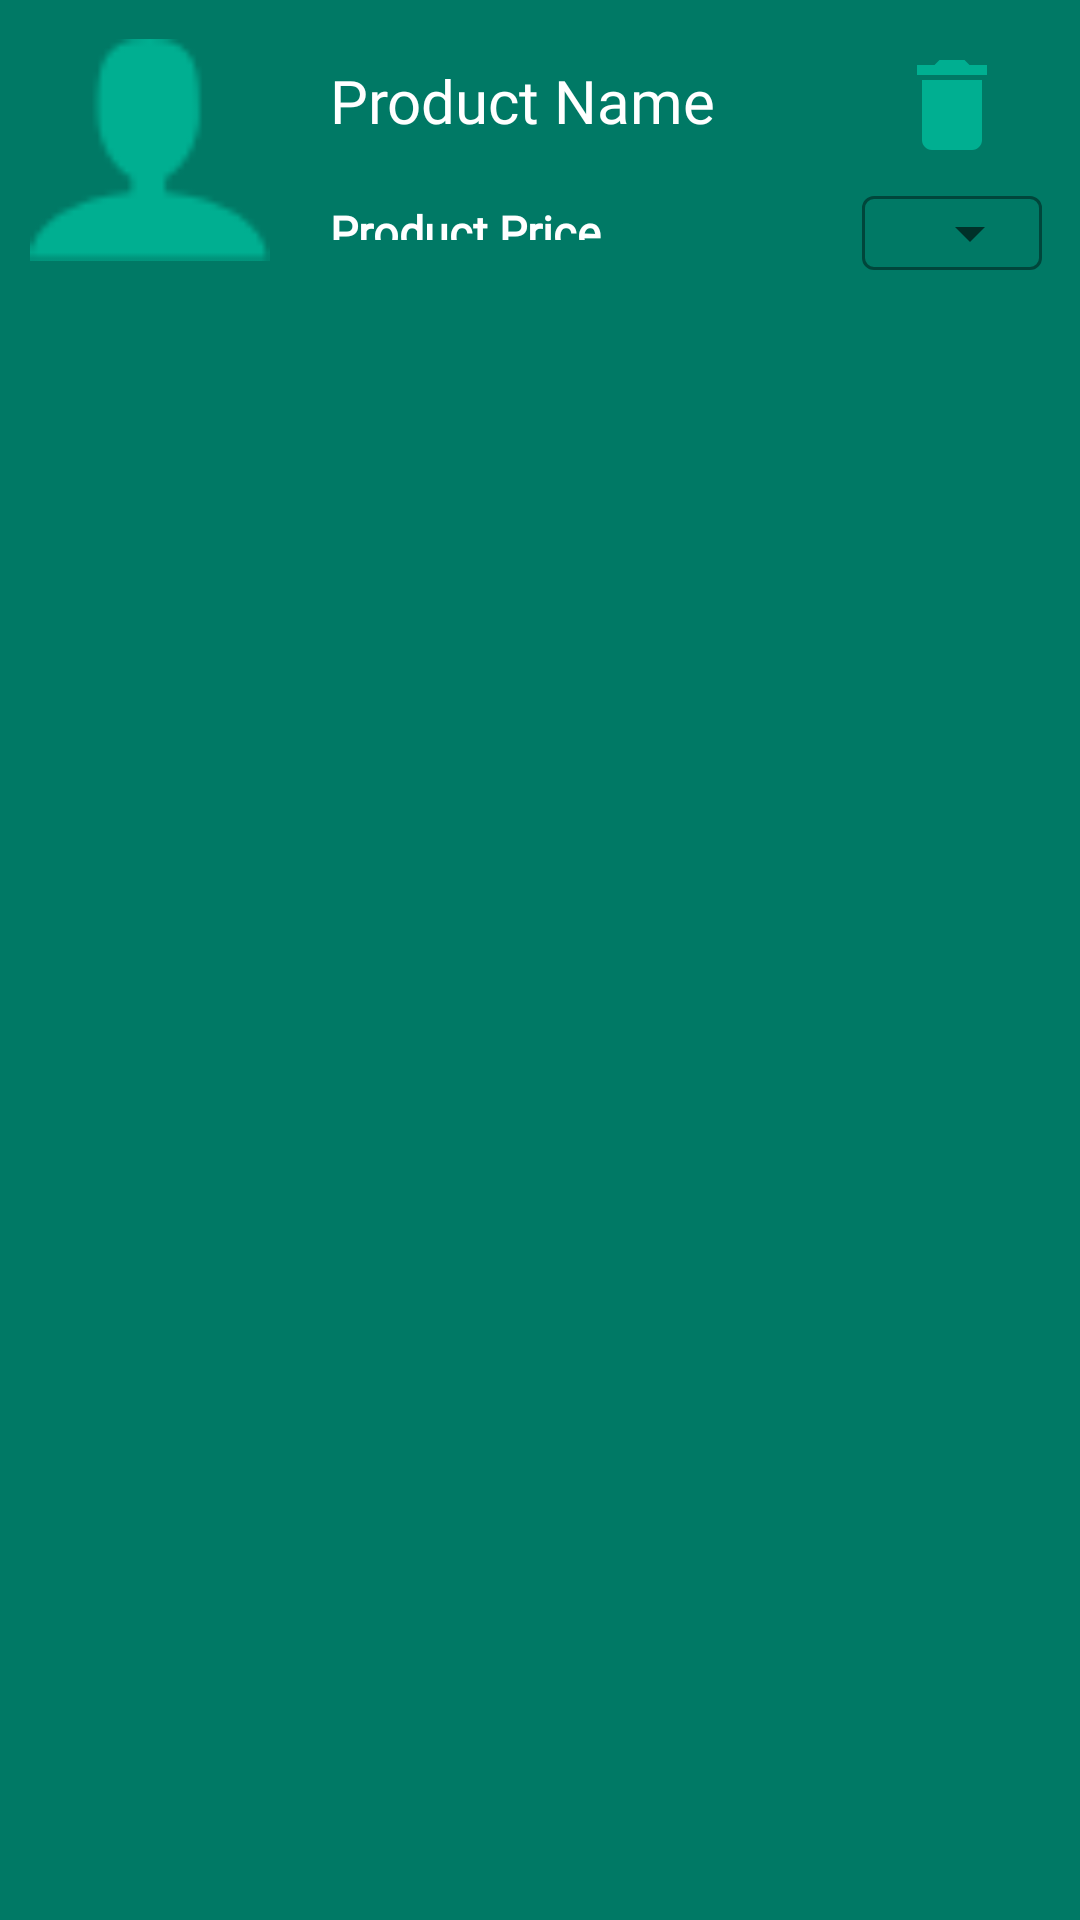

Point at icon controls on the screen. Image size 1080×1920, points as (x=x, y=y).
person: (x=148, y=150)
